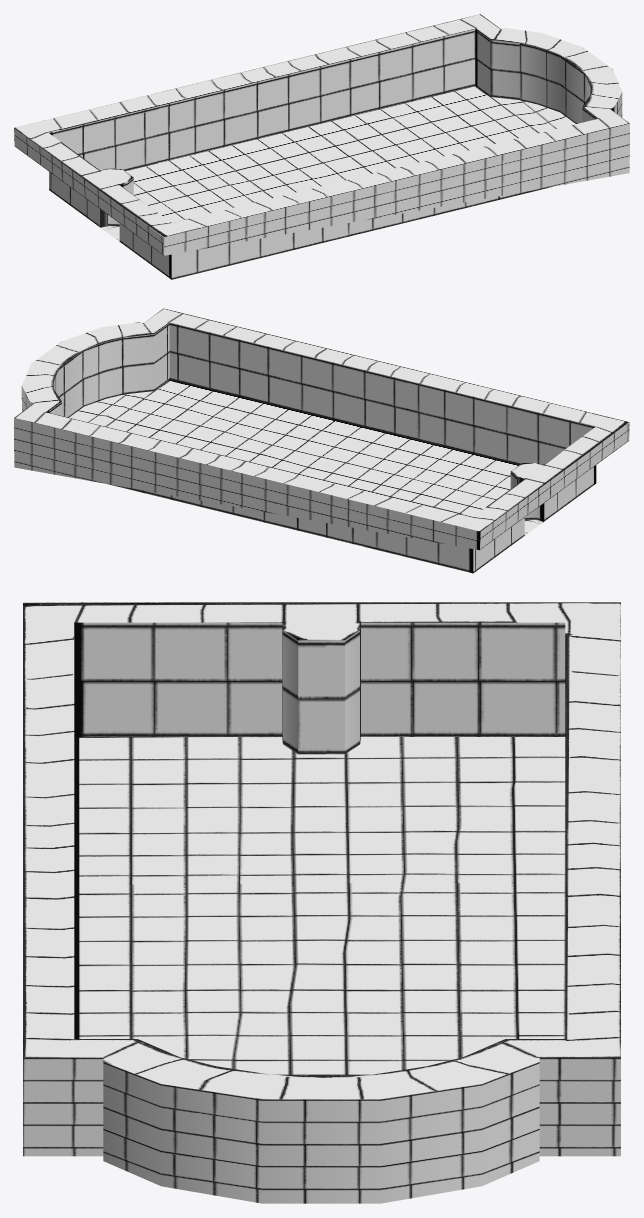
The model's file is Pool 1.fbx.
3 views of the same model, one above another, from view 1: azimuth 30°, elevation 25°; view 2: azimuth 150°, elevation 25°; view 3: azimuth 270°, elevation 25° (orthographic). The views are drawn at different scales.
Visible parts, largest first — view 1: Box001; view 2: Box001; view 3: Box001.
Boxes of the visible parts, x1,y1,x2,y2 form: Box001: (14, 14, 629, 279); Box001: (14, 308, 629, 573); Box001: (23, 602, 620, 1203).
Bounding box in the file's own units: 115 × 12.25 × 58.23.
1 material, 1 textured.
